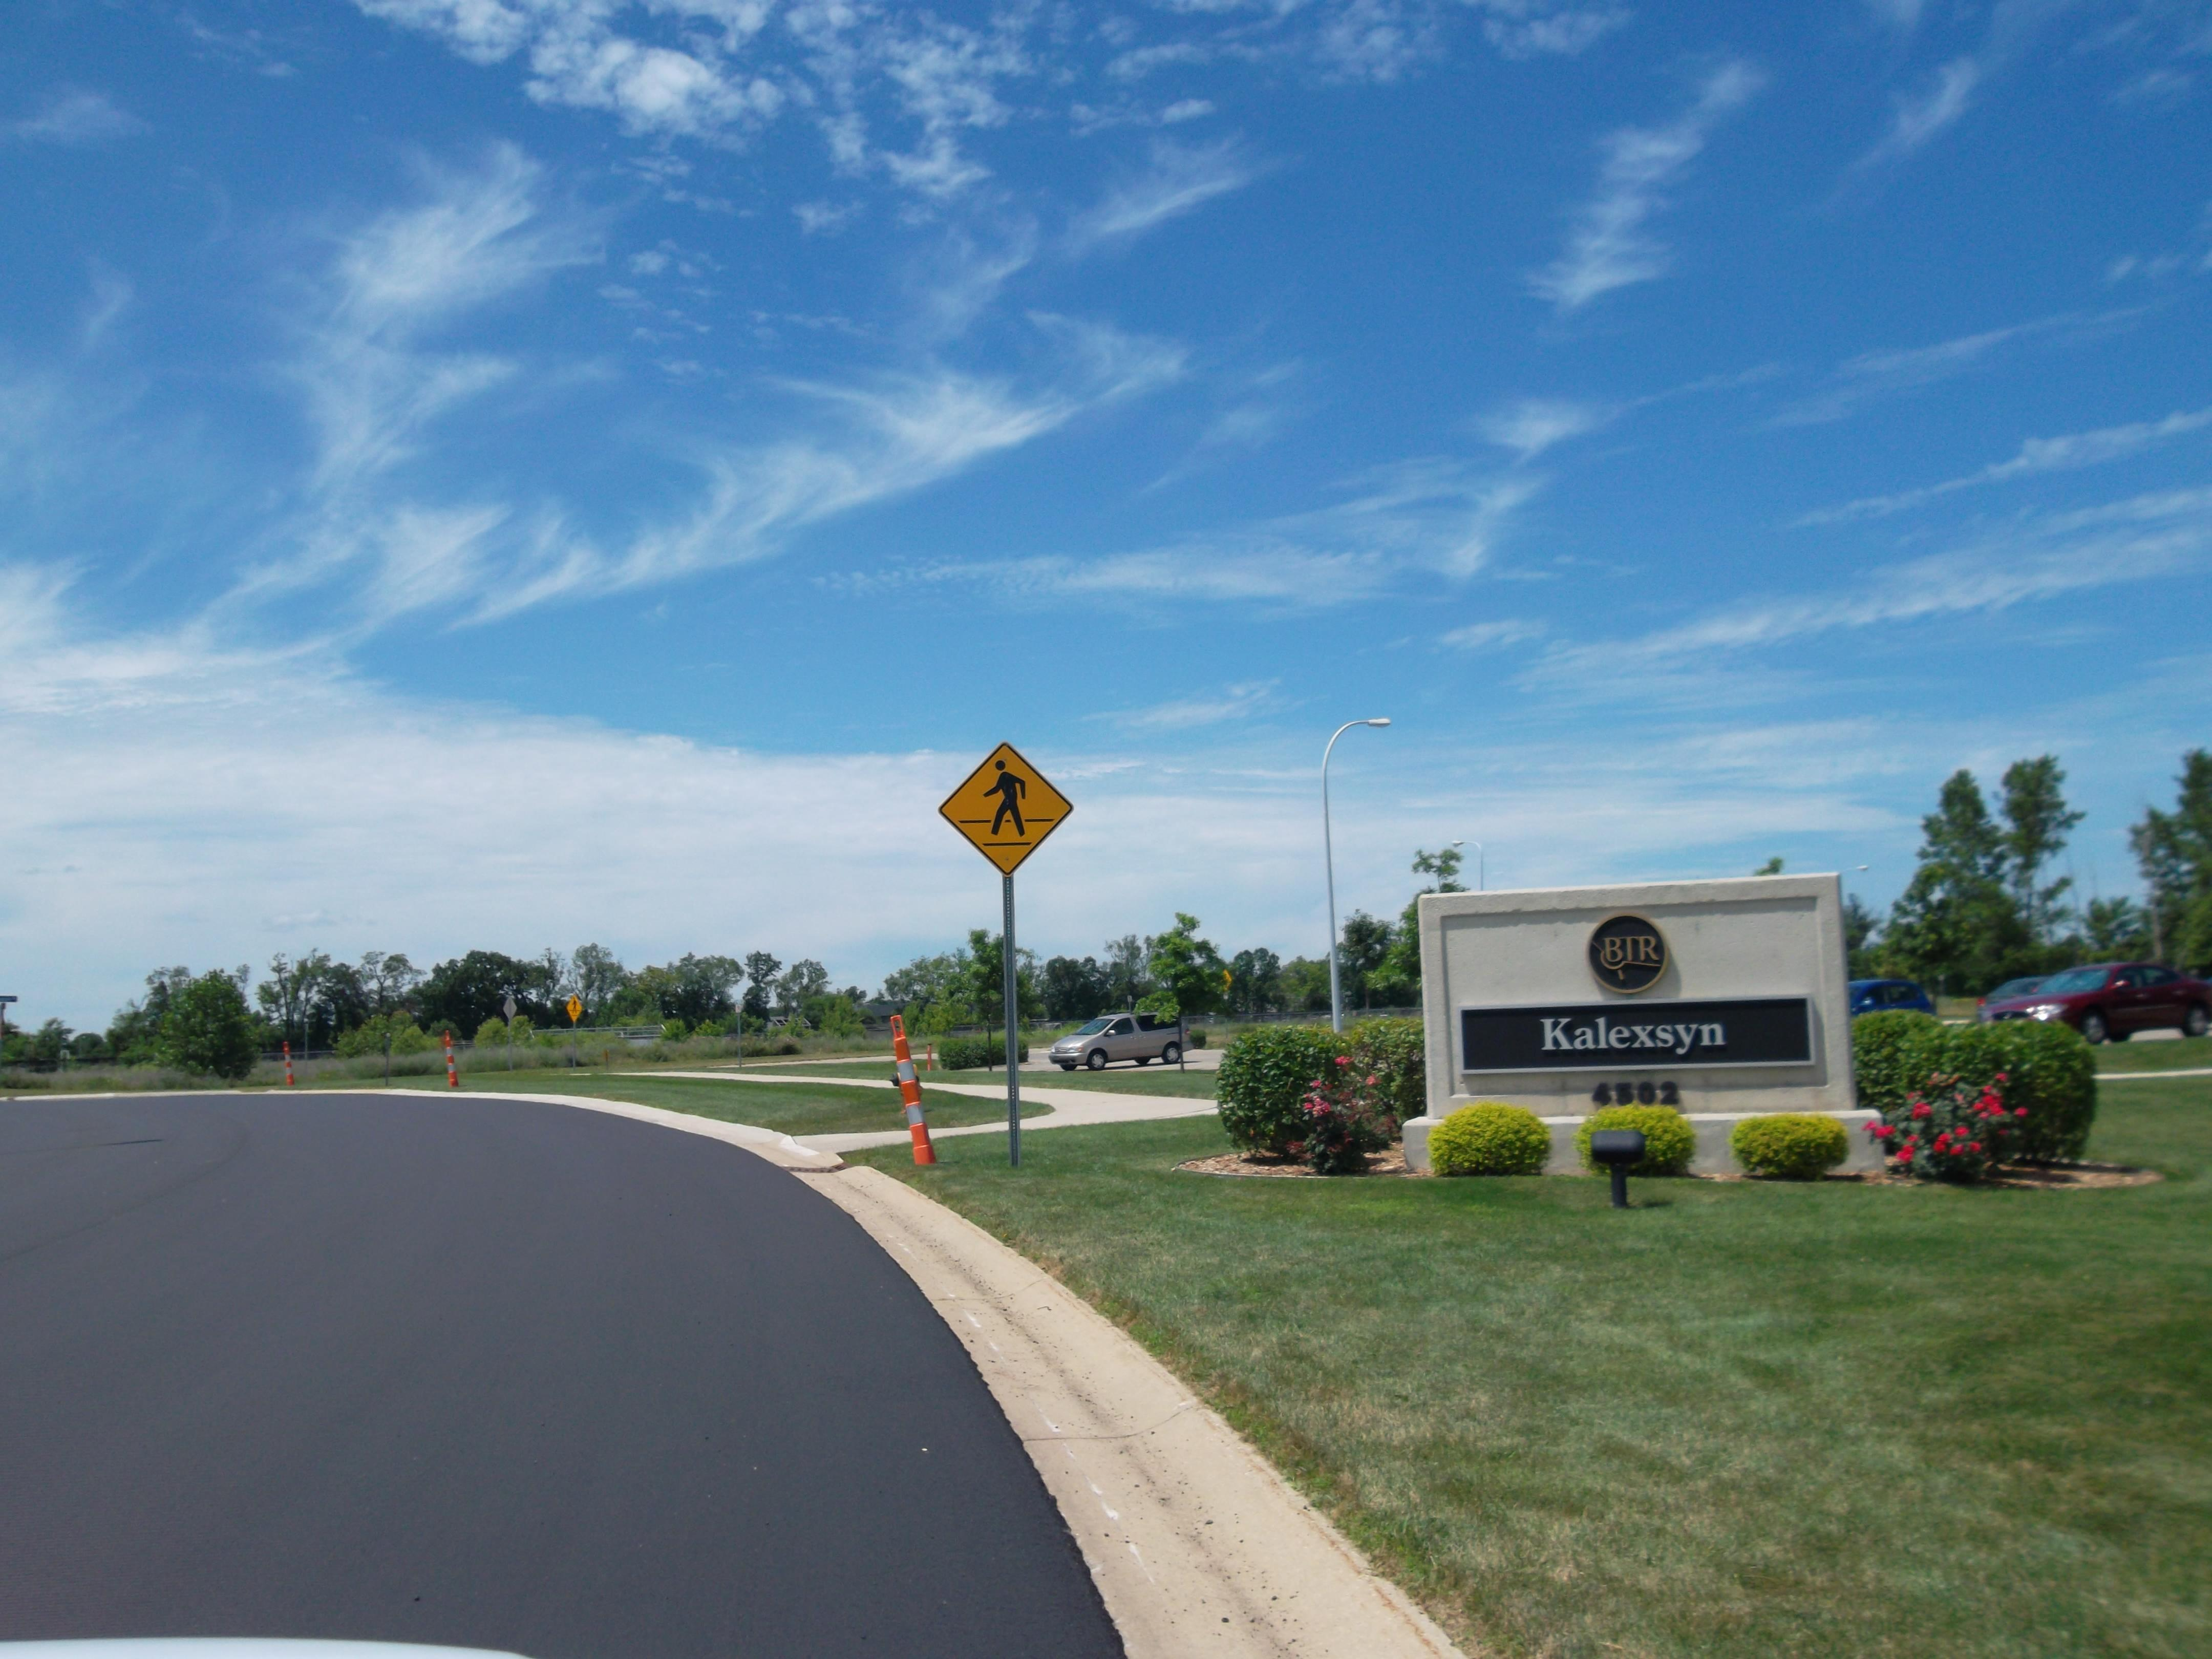warning: (937, 737, 1078, 877)
